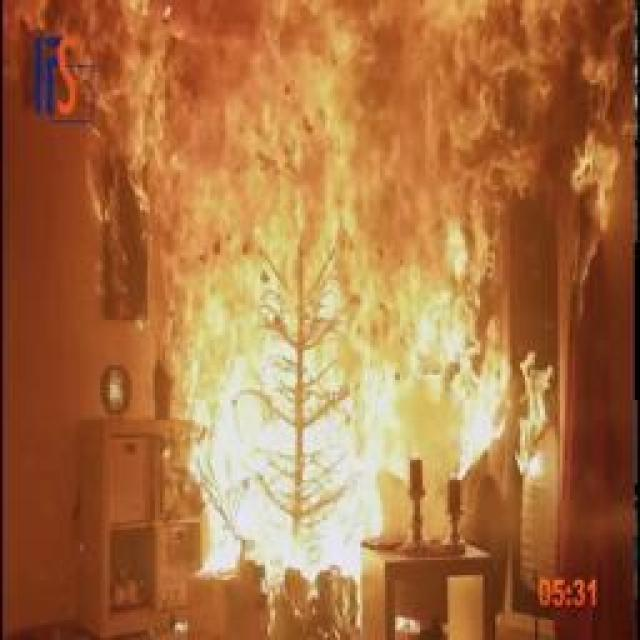fire: (9, 0, 609, 600)
